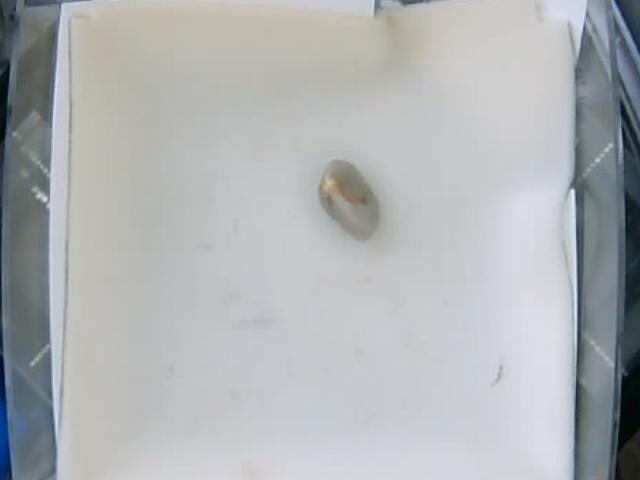Pebble: (317, 160, 382, 245)
